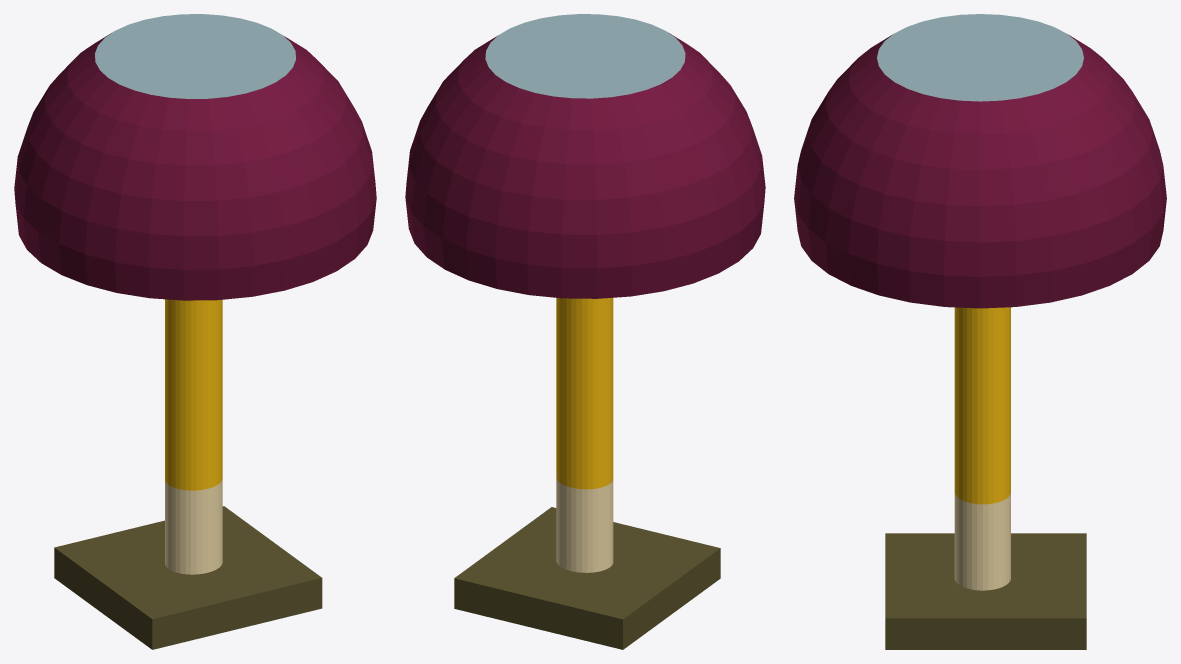
Rendered from lamp1.gltf.
3 views of the same model, side by side, from view 1: azimuth 30°, elevation 25°; view 2: azimuth 150°, elevation 25°; view 3: azimuth 270°, elevation 25° (orthographic). The views are drawn at different scales.
Visible parts, largest first — view 1: lampshade1bse; view 2: lampshade1bse; view 3: lampshade1bse.
Part boxes in pixels (box(x1,y1,x2,y2)): lampshade1bse: box(14, 14, 376, 649); lampshade1bse: box(405, 14, 765, 649); lampshade1bse: box(794, 14, 1166, 649).
Size of the model in its own units: 0.1411 by 0.2305 by 0.1411.
Materials: 3 (3 with a texture image).
